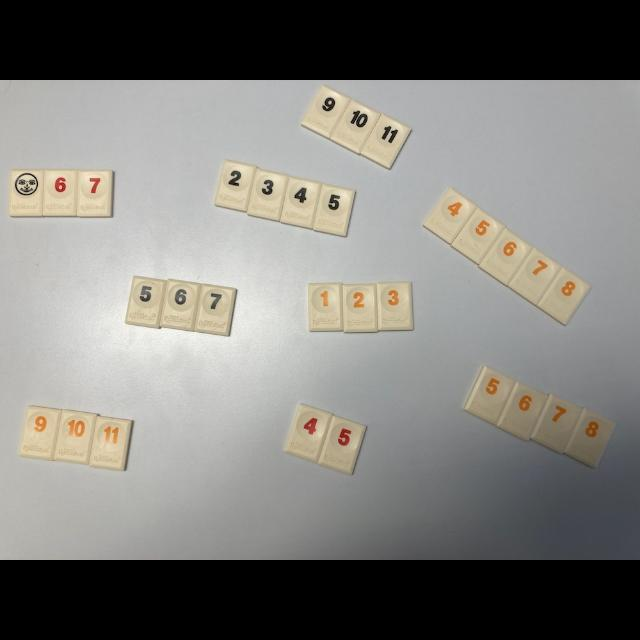black_10: (330, 100, 380, 154)
black_11: (361, 114, 411, 169)
black_2: (214, 160, 256, 211)
black_3: (248, 169, 289, 221)
black_4: (280, 176, 321, 229)
black_5: (312, 184, 355, 236), (125, 276, 166, 328)
black_6: (160, 279, 201, 330)
black_7: (195, 284, 236, 336)
black_9: (301, 85, 350, 139)
joker: (9, 169, 44, 216)
orange_1: (309, 284, 341, 331)
orange_10: (54, 410, 98, 464)
orange_11: (89, 416, 132, 470)
orange_2: (343, 285, 377, 331)
orange_3: (376, 282, 412, 330)
orange_4: (424, 188, 478, 244)
orange_5: (464, 366, 516, 424), (452, 208, 505, 264)
orange_6: (498, 381, 548, 441), (479, 229, 532, 285)
orange_7: (531, 394, 582, 454), (509, 248, 561, 304)
orange_8: (564, 409, 615, 469), (538, 268, 591, 325)
orange_9: (19, 406, 61, 460)
red_4: (284, 404, 332, 462)
red_5: (318, 416, 366, 475)
red_6: (44, 170, 78, 216)
red_7: (78, 171, 112, 218)
